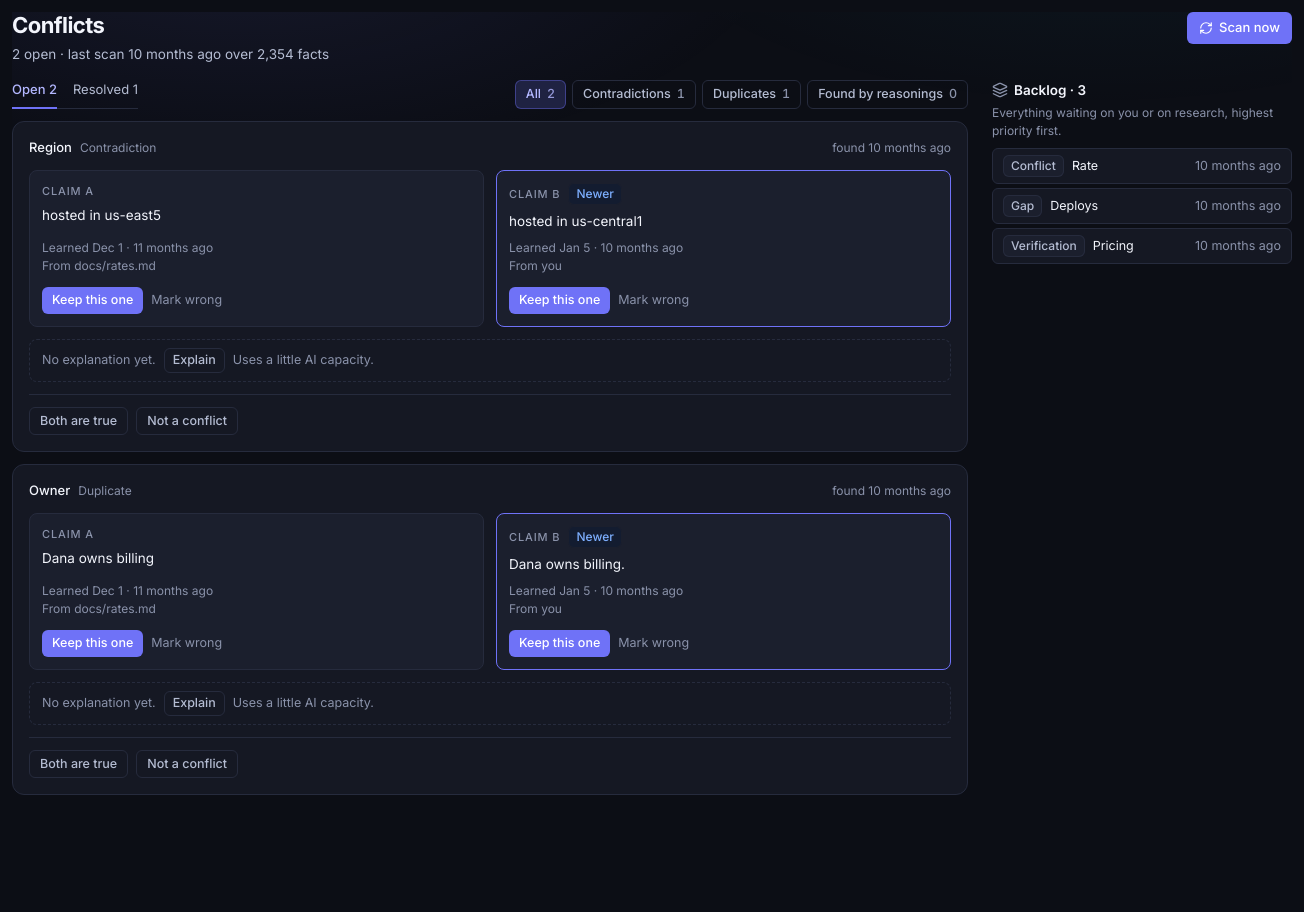
Test: Conflicts (Refine PR 7) › Explain asks the server once and shows the answer in place
expect the text "No explanation yet." below "hosted in us-east5" is shown: met, box [42,352,156,367]
Click the button "Explain" below "hosted in us-east5" at (194, 360), box [164,348,225,373]
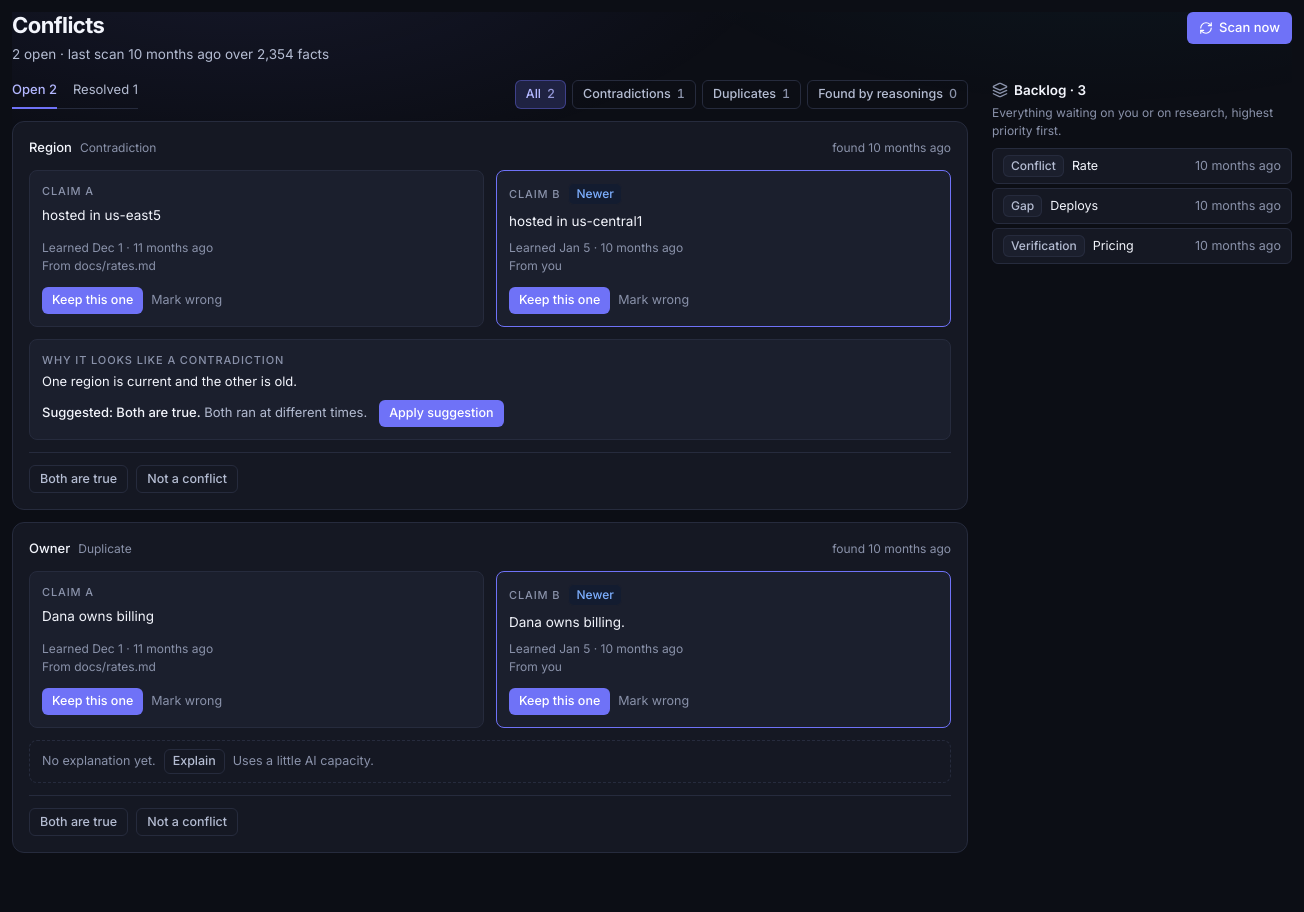
expect the text "One region is current and the other is old." is shown: met, box [42,373,297,389]
expect the text "Suggested: Both are true." is shown: met, box [42,404,201,420]
